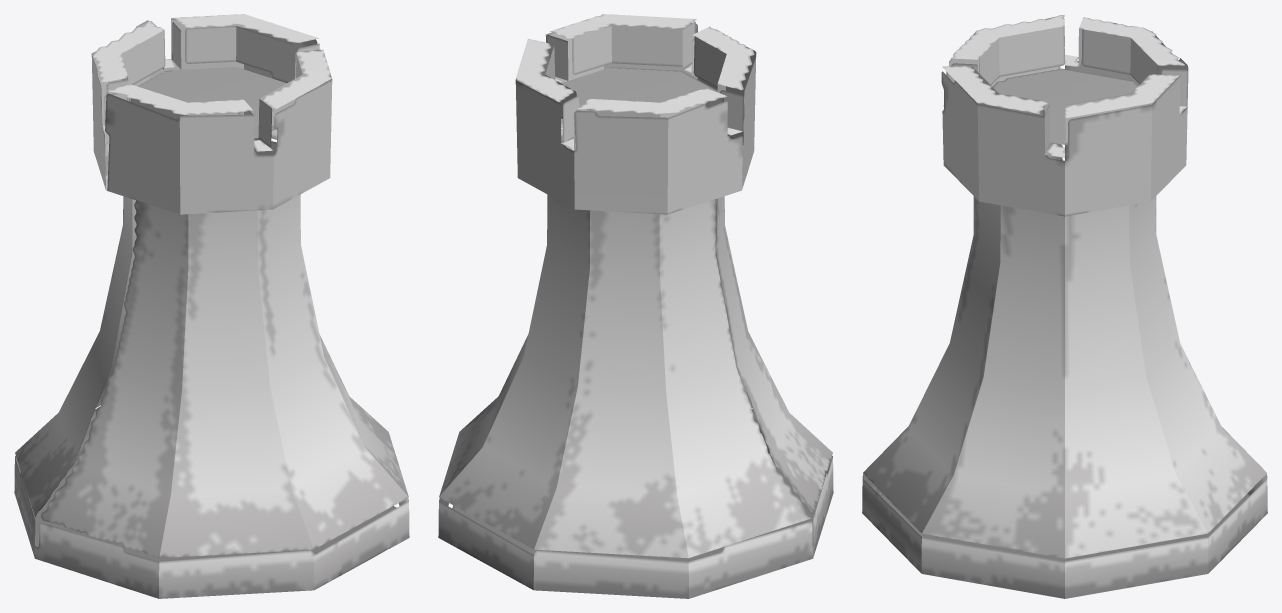
The model's file is Torre_Pieza.fbx.
3 views of the same model, side by side, from view 1: azimuth 30°, elevation 25°; view 2: azimuth 150°, elevation 25°; view 3: azimuth 270°, elevation 25° (orthographic).
Parts seen in each view (by area): view 1: Torre_Pieza; view 2: Torre_Pieza; view 3: Torre_Pieza.
Boxes of the visible parts, box(x1,y1,x2,y2) form: Torre_Pieza: box(14, 14, 409, 598); Torre_Pieza: box(438, 14, 833, 598); Torre_Pieza: box(862, 15, 1267, 598).
Size of the model in its own units: 24.51 by 29.84 by 24.51.
1 material, 1 textured.
